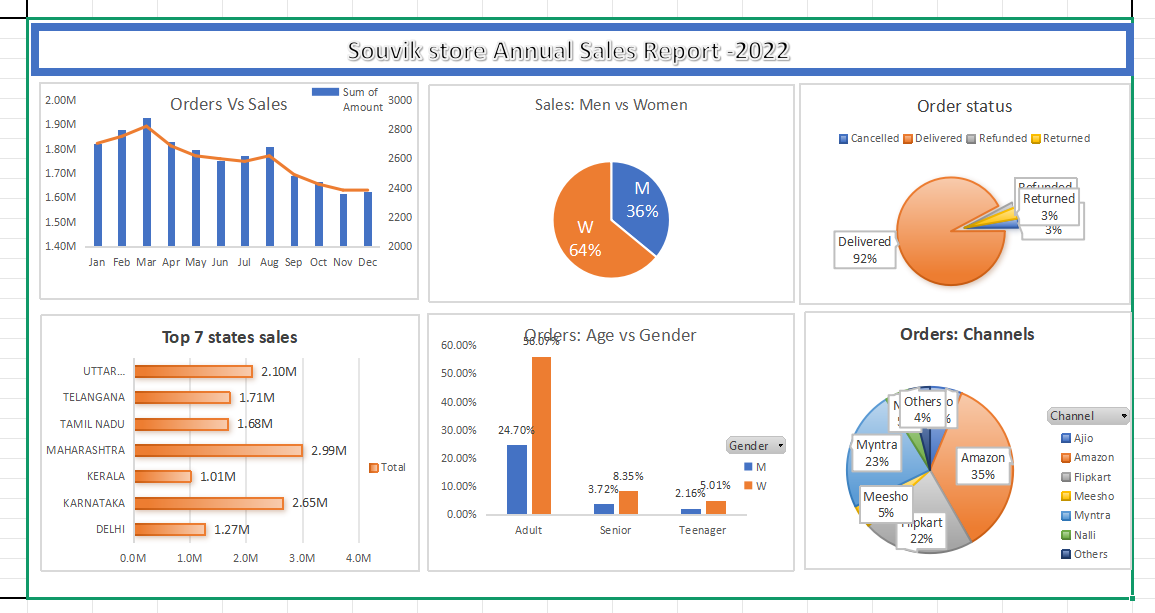

This screenshot's page, from the dashboard's own definition file:
{"tool":"powerbi","page":{"name":"Page 1","canvas":[1280,720],"ordinal":0},"visuals":[{"type":"shape","box":[0,0,1280,66],"z":0},{"type":"textbox","box":[0,173,1280,150],"z":1000},{"type":"textbox","box":[0,0,1280,66],"z":2000},{"type":"lineStackedColumnComboChart","title":"ORDER VS SALES","fields":{"Category":["Sheet1.Row Labels"],"Y":["CountNonNull(Sheet1.Count of Order ID)","Sum(Sheet1.Sum of Amount)"]},"box":[0,70,380,290],"z":2001},{"type":"pieChart","title":"SALES :MEN VS WOMMEN","fields":{"Category":["Sheet3.Row Labels"],"Y":["Sum(Sheet3.Sum of Amount)"]},"box":[408,72,408,290],"z":2002},{"type":"pieChart","title":"ORDER STATUS","fields":{"Category":["original_data (2).Status"],"Y":["CountNonNull(original_data (2).Status)"]},"box":[838,72,408,290],"z":2003},{"type":"pieChart","title":"ORDERS CHANNELS","fields":{"Category":["Sheet6.Row Labels"],"Y":["CountNonNull(Sheet6.Row Labels)"]},"box":[838,376,408,290],"z":2004},{"type":"barChart","title":"Top 7 State Sales","fields":{"Category":["Sheet4.Row Labels"],"Y":["Sum(Sheet4.Sum of Amount)"]},"box":[0,376,380,290],"z":2005},{"type":"columnChart","title":"Order vs Age","fields":{"Category":["Sheet5.Column Labels"],"Y":["Count(Sheet5.Count of Order ID)"],"Series":["Sheet5.Column3"]},"box":[408,376,408,290],"z":2006}]}

Visuals, with their boxes on the page's 1280x720 design canvas (x1, y1, x2, y2). These are canvas units, not pixel positions in the 1155x613 screenshot, which may show the page scaled, cropped or inside an application window:
shape: region(0, 0, 1280, 66)
textbox: region(0, 173, 1280, 323)
textbox: region(0, 0, 1280, 66)
"ORDER VS SALES" lineStackedColumnComboChart: region(0, 70, 380, 360)
"SALES :MEN VS WOMMEN" pieChart: region(408, 72, 816, 362)
"ORDER STATUS" pieChart: region(838, 72, 1246, 362)
"ORDERS CHANNELS" pieChart: region(838, 376, 1246, 666)
"Top 7 State Sales" barChart: region(0, 376, 380, 666)
"Order vs Age" columnChart: region(408, 376, 816, 666)
